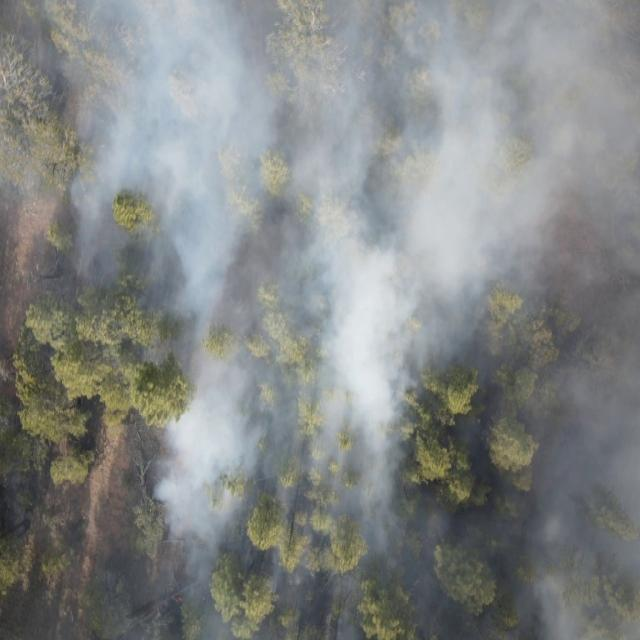fire: (175, 593, 186, 608)
smoke: (0, 0, 640, 376), (157, 375, 640, 640), (35, 531, 156, 640)
